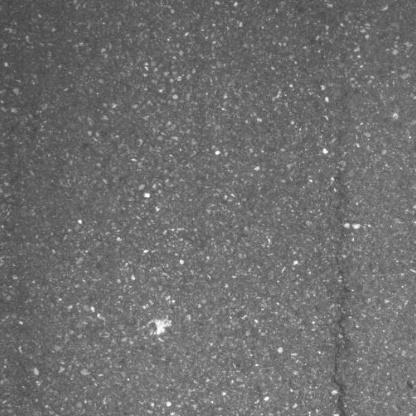Cracks: (326, 158, 353, 416)
